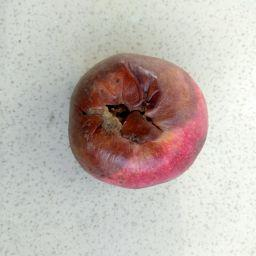apple: (53, 46, 217, 194)
